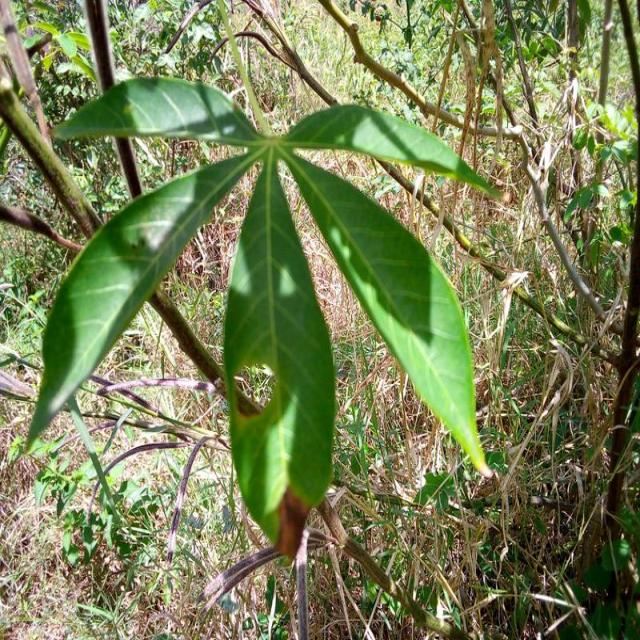cassava leaf: (22, 71, 498, 548), (22, 146, 262, 459), (277, 144, 493, 479), (222, 148, 335, 547), (50, 75, 258, 146)
